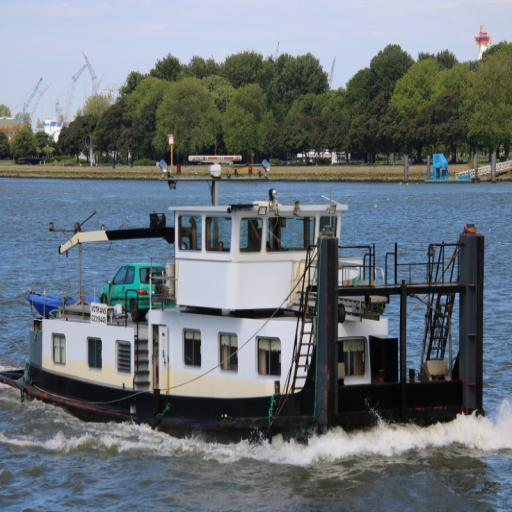tugboat: (6, 149, 491, 461)
